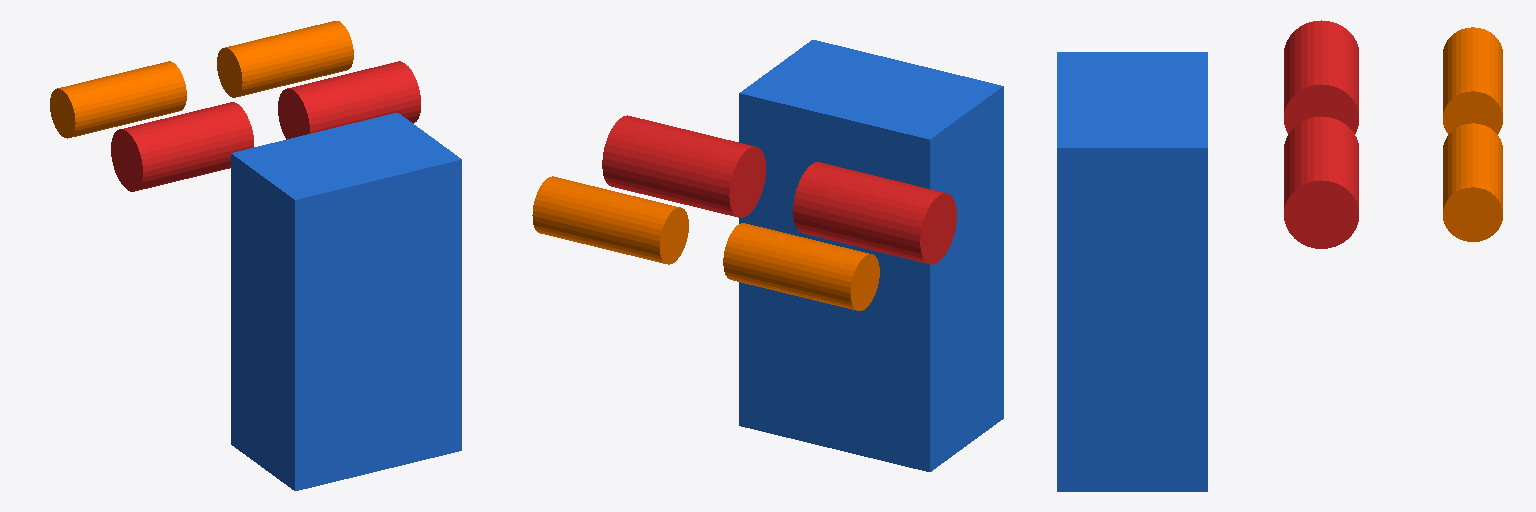
URDF robot description (humanoid_robot):
<?xml version="1.0" ?>
<robot name="humanoid_robot">
  <!-- 定义机器人的本体部分 -->
  
  <!-- 基座 (躯干) -->
  <link name="base_link">
    <inertial>
      <origin xyz="0 0 0"/>
      <mass value="5.0"/>
      <inertia ixx="0.1" ixy="0" ixz="0" iyy="0.1" iyz="0" izz="0.05"/>
    </inertial>
    <visual>
      <geometry>
        <box size="0.3 0.2 0.5"/>
      </geometry>
      <material name="blue">
        <color rgba="0.2 0.5 0.9 1"/>
      </material>
    </visual>
    <collision>
      <geometry>
        <box size="0.3 0.2 0.5"/>
      </geometry>
    </collision>
  </link>
  
  <!-- 左肩关节 -->
  <joint name="left_shoulder" type="revolute">
    <parent link="base_link"/>
    <child link="left_shoulder_link"/>
    <origin xyz="-0.15 0.15 0.2" rpy="0 0 0"/>
    <axis xyz="1 0 0"/>
    <limit lower="-3.14159" upper="3.14159" effort="500" velocity="5.0"/>
  </joint>
  
  <link name="left_shoulder_link">
    <inertial>
      <origin xyz="0 0.1 0"/>
      <mass value="1.0"/>
      <inertia ixx="0.01" ixy="0" ixz="0" iyy="0.01" iyz="0" izz="0.01"/>
    </inertial>
    <visual>
      <geometry>
        <cylinder length="0.2" radius="0.05"/>
      </geometry>
      <origin xyz="0 0.1 0" rpy="0 1.5707 0"/>
      <material name="red">
        <color rgba="0.9 0.2 0.2 1"/>
      </material>
    </visual>
    <collision>
      <geometry>
        <cylinder length="0.2" radius="0.05"/>
      </geometry>
      <origin xyz="0 0.1 0" rpy="0 1.5707 0"/>
    </collision>
  </link>
  
  <!-- 左肘关节 -->
  <joint name="left_elbow" type="revolute">
    <parent link="left_shoulder_link"/>
    <child link="left_forearm_link"/>
    <origin xyz="0 0.2 0" rpy="0 0 0"/>
    <axis xyz="1 0 0"/>
    <limit lower="0" upper="3.14159" effort="500" velocity="5.0"/>
  </joint>
  
  <link name="left_forearm_link">
    <inertial>
      <origin xyz="0 0.1 0"/>
      <mass value="0.8"/>
      <inertia ixx="0.008" ixy="0" ixz="0" iyy="0.008" iyz="0" izz="0.008"/>
    </inertial>
    <visual>
      <geometry>
        <cylinder length="0.2" radius="0.04"/>
      </geometry>
      <origin xyz="0 0.1 0" rpy="0 1.5707 0"/>
      <material name="orange">
        <color rgba="1.0 0.5 0.0 1"/>
      </material>
    </visual>
    <collision>
      <geometry>
        <cylinder length="0.2" radius="0.04"/>
      </geometry>
      <origin xyz="0 0.1 0" rpy="0 1.5707 0"/>
    </collision>
  </link>
  
  <!-- 右肩关节 -->
  <joint name="right_shoulder" type="revolute">
    <parent link="base_link"/>
    <child link="right_shoulder_link"/>
    <origin xyz="0.15 0.15 0.2" rpy="0 0 0"/>
    <axis xyz="1 0 0"/>
    <limit lower="-3.14159" upper="3.14159" effort="500" velocity="5.0"/>
  </joint>
  
  <link name="right_shoulder_link">
    <inertial>
      <origin xyz="0 0.1 0"/>
      <mass value="1.0"/>
      <inertia ixx="0.01" ixy="0" ixz="0" iyy="0.01" iyz="0" izz="0.01"/>
    </inertial>
    <visual>
      <geometry>
        <cylinder length="0.2" radius="0.05"/>
      </geometry>
      <origin xyz="0 0.1 0" rpy="0 1.5707 0"/>
      <material name="red">
        <color rgba="0.9 0.2 0.2 1"/>
      </material>
    </visual>
    <collision>
      <geometry>
        <cylinder length="0.2" radius="0.05"/>
      </geometry>
      <origin xyz="0 0.1 0" rpy="0 1.5707 0"/>
    </collision>
  </link>
  
  <!-- 右肘关节 -->
  <joint name="right_elbow" type="revolute">
    <parent link="right_shoulder_link"/>
    <child link="right_forearm_link"/>
    <origin xyz="0 0.2 0" rpy="0 0 0"/>
    <axis xyz="1 0 0"/>
    <limit lower="0" upper="3.14159" effort="500" velocity="5.0"/>
  </joint>
  
  <link name="right_forearm_link">
    <inertial>
      <origin xyz="0 0.1 0"/>
      <mass value="0.8"/>
      <inertia ixx="0.008" ixy="0" ixz="0" iyy="0.008" iyz="0" izz="0.008"/>
    </inertial>
    <visual>
      <geometry>
        <cylinder length="0.2" radius="0.04"/>
      </geometry>
      <origin xyz="0 0.1 0" rpy="0 1.5707 0"/>
      <material name="orange">
        <color rgba="1.0 0.5 0.0 1"/>
      </material>
    </visual>
    <collision>
      <geometry>
        <cylinder length="0.2" radius="0.04"/>
      </geometry>
      <origin xyz="0 0.1 0" rpy="0 1.5707 0"/>
    </collision>
  </link>

</robot>

--- Render facts (derived) ---
Views: 3 orthographic renders of the robot side by side, from view 1: azimuth 30°, elevation 25°; view 2: azimuth 150°, elevation 25°; view 3: azimuth 270°, elevation 25°.
Model humanoid_robot with 5 links and 4 joints (4 revolute), rooted at base_link, posed every joint at zero.
Links seen in each view (by area): view 1: base_link, left_shoulder_link, right_shoulder_link, left_forearm_link, right_forearm_link; view 2: base_link, left_shoulder_link, right_shoulder_link, left_forearm_link, right_forearm_link; view 3: base_link, right_shoulder_link, left_shoulder_link, right_forearm_link, left_forearm_link.
Boxes of the visible links, x1,y1,x2,y2 form: base_link: [231, 113, 461, 490]; left_shoulder_link: [111, 102, 253, 191]; right_shoulder_link: [278, 61, 420, 139]; left_forearm_link: [50, 61, 186, 138]; right_forearm_link: [217, 21, 353, 97]; base_link: [739, 40, 1003, 471]; left_shoulder_link: [793, 162, 956, 264]; right_shoulder_link: [602, 115, 765, 217]; left_forearm_link: [723, 223, 879, 310]; right_forearm_link: [532, 176, 688, 264]; base_link: [1057, 52, 1207, 491]; right_shoulder_link: [1284, 116, 1358, 248]; left_shoulder_link: [1284, 20, 1358, 134]; right_forearm_link: [1443, 123, 1502, 241]; left_forearm_link: [1443, 27, 1502, 134].
Bounding box of the posed robot: 0.5 × 0.59 × 0.5 m (x, y, z).
Geometry: primitives only (box / cylinder / sphere), no mesh files.
